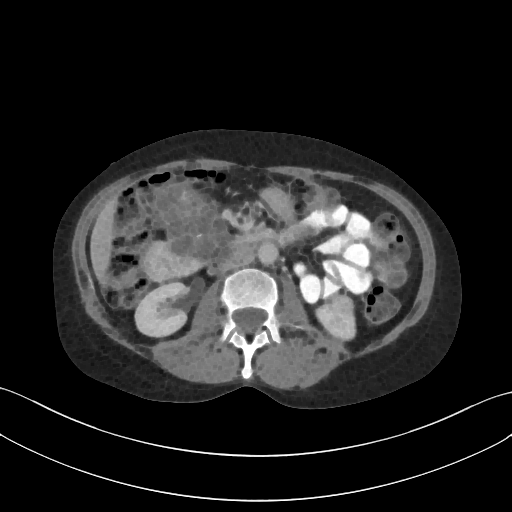Lesion: (329, 293, 356, 315)
